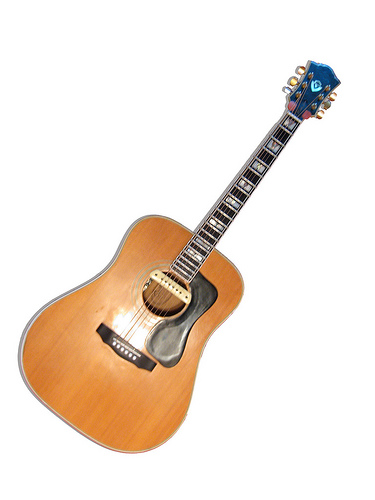guitar: (17, 57, 342, 456)
